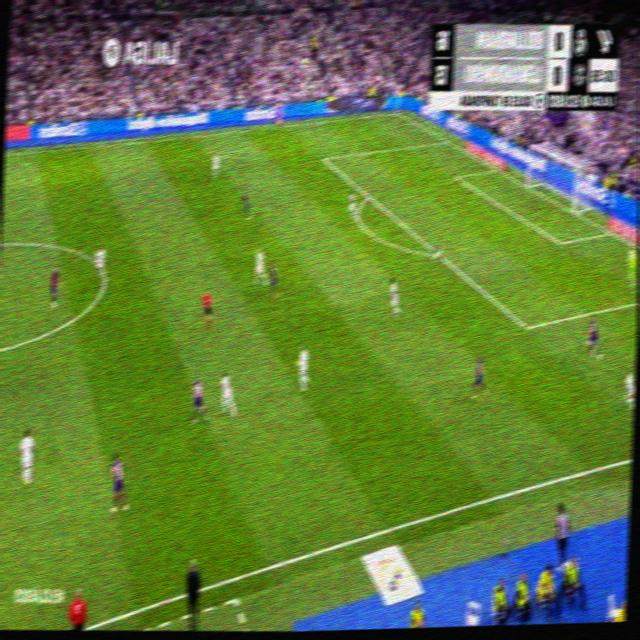bigarea_bottom_inner: (520, 314, 533, 338)
bigarea_top_inner: (320, 150, 329, 165)
bigarea_top_outter: (442, 133, 451, 146)
bottom_arc_area_intersection: (431, 243, 443, 262)
corner: (393, 107, 402, 117)
smallarea_bottom_inner: (556, 233, 567, 251)
smallarea_top_inner: (453, 170, 461, 181)
top_arc_area_intersection: (364, 186, 373, 203)
